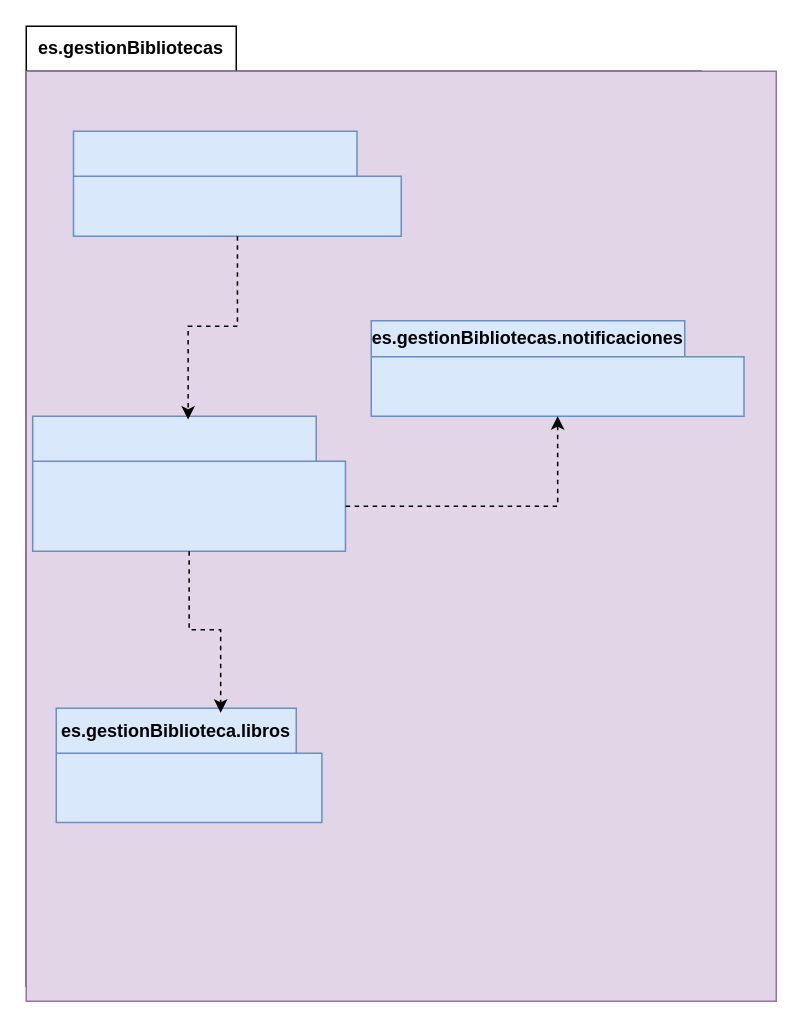
This 803x1028 diagram has some shape labels left out. The shapes that lost their labels are listed below. From the top down, each one's centre as x and y in pixels, then its label:
At point (236, 183): "es.gestionBibliotecas.usuarios".
At point (188, 483): "es.gestionBiblioteca.Prestamos".
